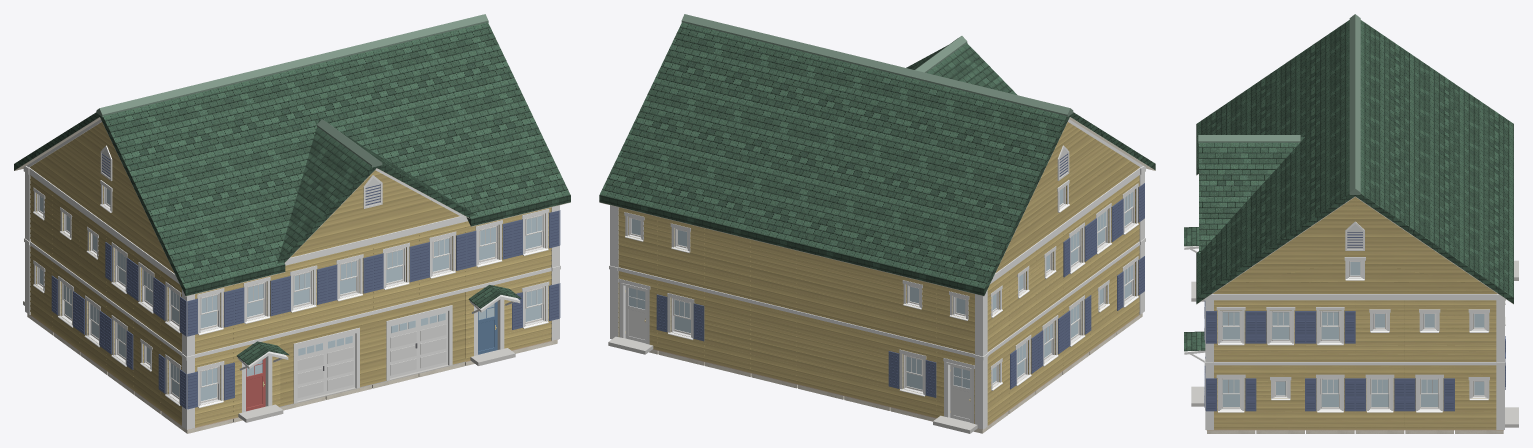
The model's file is building_assembled.glb.
The picture shows the model from 3 angles, left to right: view 1: azimuth 30°, elevation 25°; view 2: azimuth 150°, elevation 25°; view 3: azimuth 270°, elevation 25°; orthographic projection. The views are drawn at different scales.
Parts seen in each view (by area): view 1: building_shingle, building_siding, building_trim, building_shutter, building_glass, building_ridge, building_shutter_dark, building_garage_panel, building_sash, building_frame, building_plaster, building_garage_door (+4 smaller); view 2: building_shingle, building_siding, building_trim, building_shutter, building_glass, building_ridge, building_frame, building_plaster, building_sash, building_shutter_dark, building_concrete, building_floor; view 3: building_shingle, building_siding, building_trim, building_shutter, building_glass, building_ridge, building_sash, building_shutter_dark, building_frame, building_plaster, building_concrete, building_floor (+1 smaller).
Part boxes in pixels (x1,y1,x2,y2): building_shingle: (14,22,570,365); building_siding: (30,122,551,427); building_trim: (23,119,560,429); building_shutter: (51,210,560,409); building_glass: (39,188,542,401); building_ridge: (96,14,488,167); building_shutter_dark: (52,154,558,406); building_garage_panel: (297,324,446,398); building_sash: (38,187,543,403); building_frame: (36,186,545,411); building_plaster: (14,117,570,433); building_garage_door: (297,311,447,400); building_shingle: (599,22,1155,295); building_siding: (618,122,1139,424); building_trim: (609,119,1145,429); building_shutter: (656,183,1144,397); building_glass: (629,188,1132,389); building_ridge: (681,14,1073,116); building_frame: (621,186,1134,422); building_plaster: (599,117,1155,433); building_sash: (630,187,1133,391); building_shutter_dark: (657,153,1144,394); building_concrete: (608,336,977,433); building_floor: (653,314,1139,429); building_shingle: (1184,20,1513,351); building_siding: (1213,197,1497,429); building_trim: (1184,199,1505,429); building_shutter: (1205,301,1505,411); building_glass: (1222,262,1484,406); building_ridge: (1198,14,1360,194); building_sash: (1221,261,1485,408); building_shutter_dark: (1204,232,1505,408); building_frame: (1220,260,1486,409); building_plaster: (1196,174,1513,433); building_concrete: (1191,260,1518,427); building_floor: (1206,429,1503,430).
Size of the model in its own units: 16.64 by 11.08 by 13.5.
Materials: 20 (3 with a texture image).
